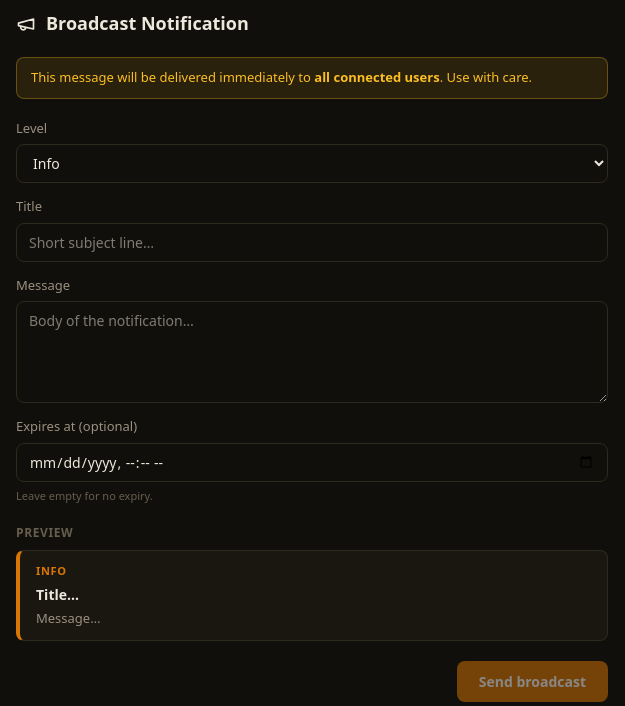
Test case: AdminBroadcastTab › renders ApiRequestError message inline
Type "T" into the field labelled "Title" at (312,242), box left=16, top=222, right=608, bottom=262
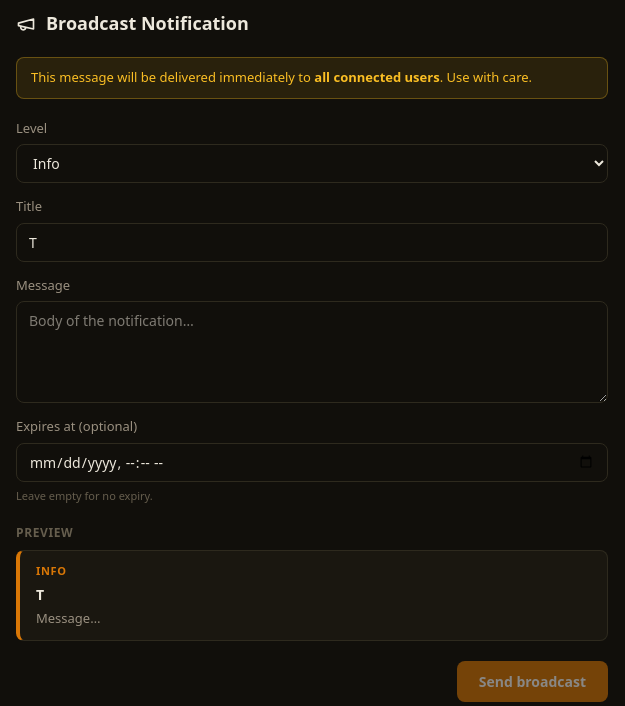
Type "M" into the text box labelled "Message" at (312,352), box left=16, top=301, right=608, bottom=403
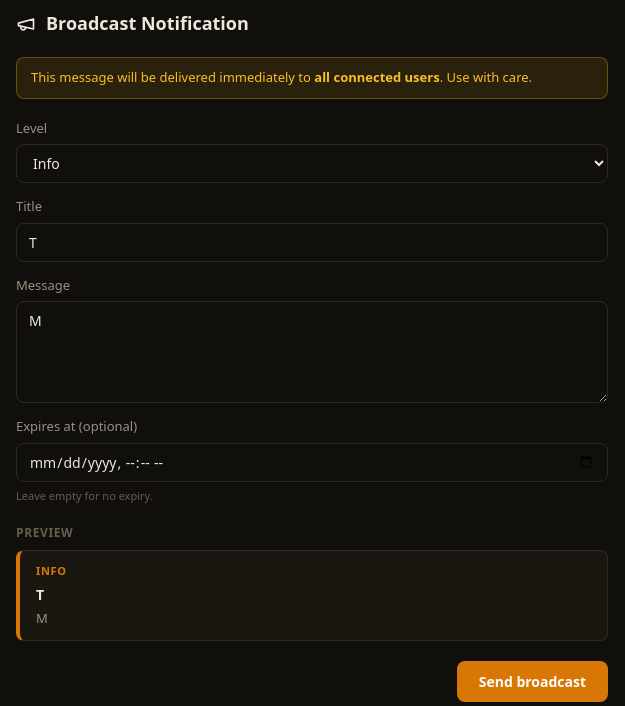
Click the button "Send broadcast" at (532,682), box left=457, top=661, right=608, bottom=702
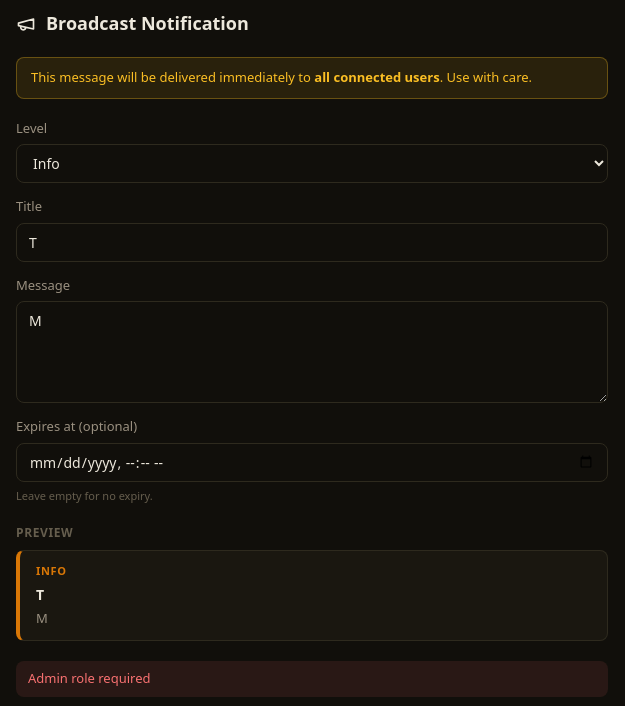
Check: the text "Admin role required" is shown, box left=16, top=661, right=608, bottom=696
